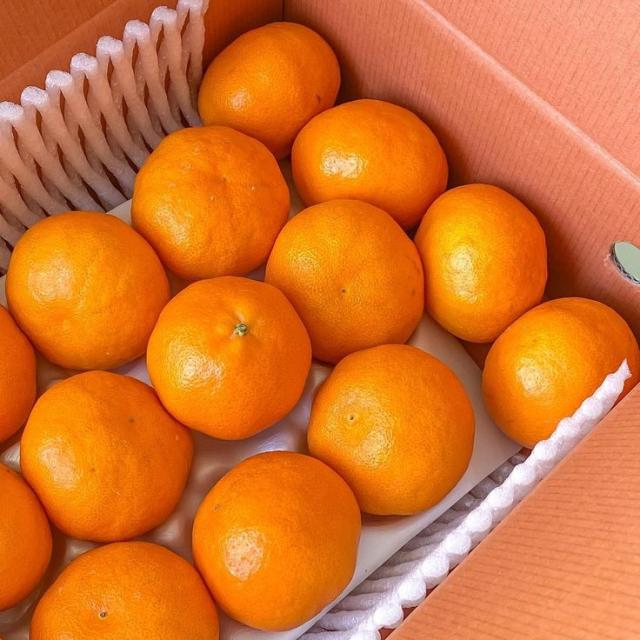orange: (194, 452, 360, 631), (21, 372, 193, 541), (308, 345, 474, 514), (147, 277, 311, 439), (266, 200, 424, 362), (7, 212, 169, 369), (132, 127, 289, 280), (483, 298, 639, 447), (415, 185, 546, 342), (292, 100, 447, 228), (199, 22, 339, 158), (30, 542, 218, 639), (0, 465, 52, 611), (0, 306, 36, 441)
